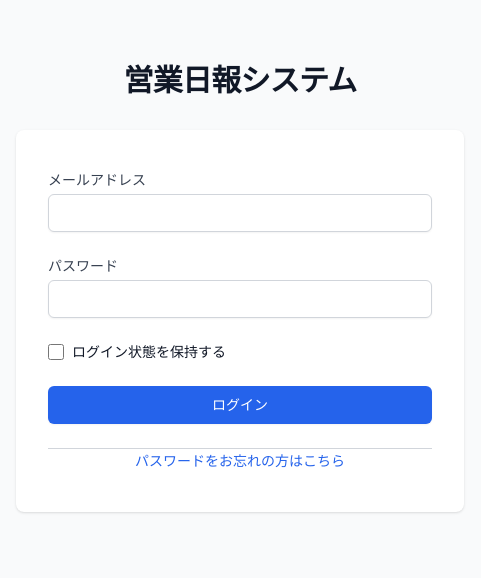
it: LoginPage › 異常系: 認証失敗時(401)にエラーメッセージが表示される
The image size is (481, 578).
Type "yamada@example.com" into the field labelled "メールアドレス" at [240, 213], box [48,194,432,232]
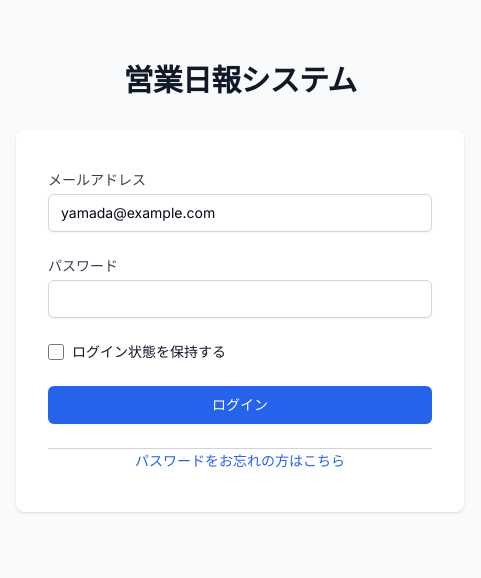
Type "wrongpassword" into the password field labelled "パスワード" at [240, 299], box [48,280,432,318]
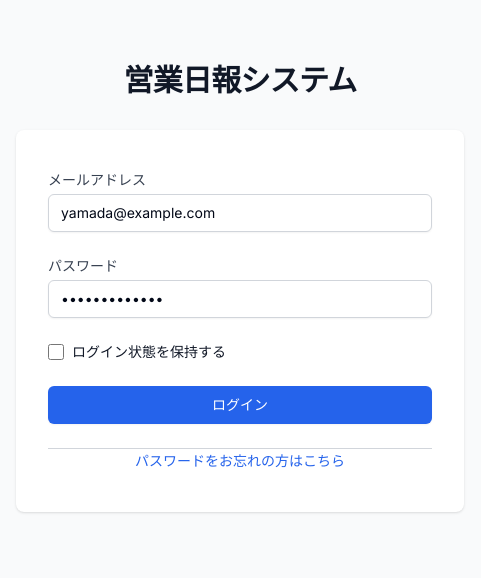
Click the button "ログイン" at [240, 405], box [48,386,432,424]
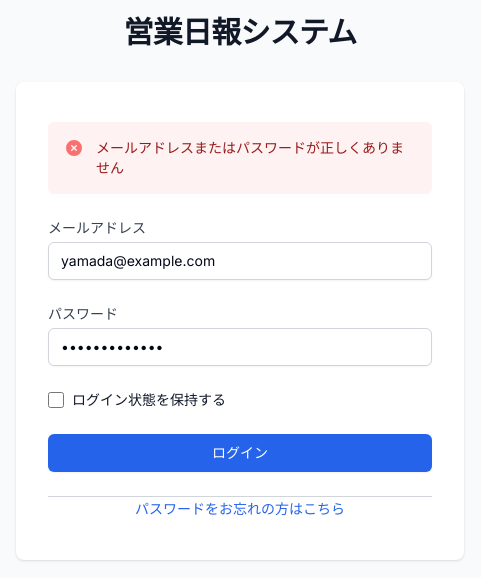
Result: the text "メールアドレスまたはパスワードが正しくありません" is shown at [96,138,416,178]
